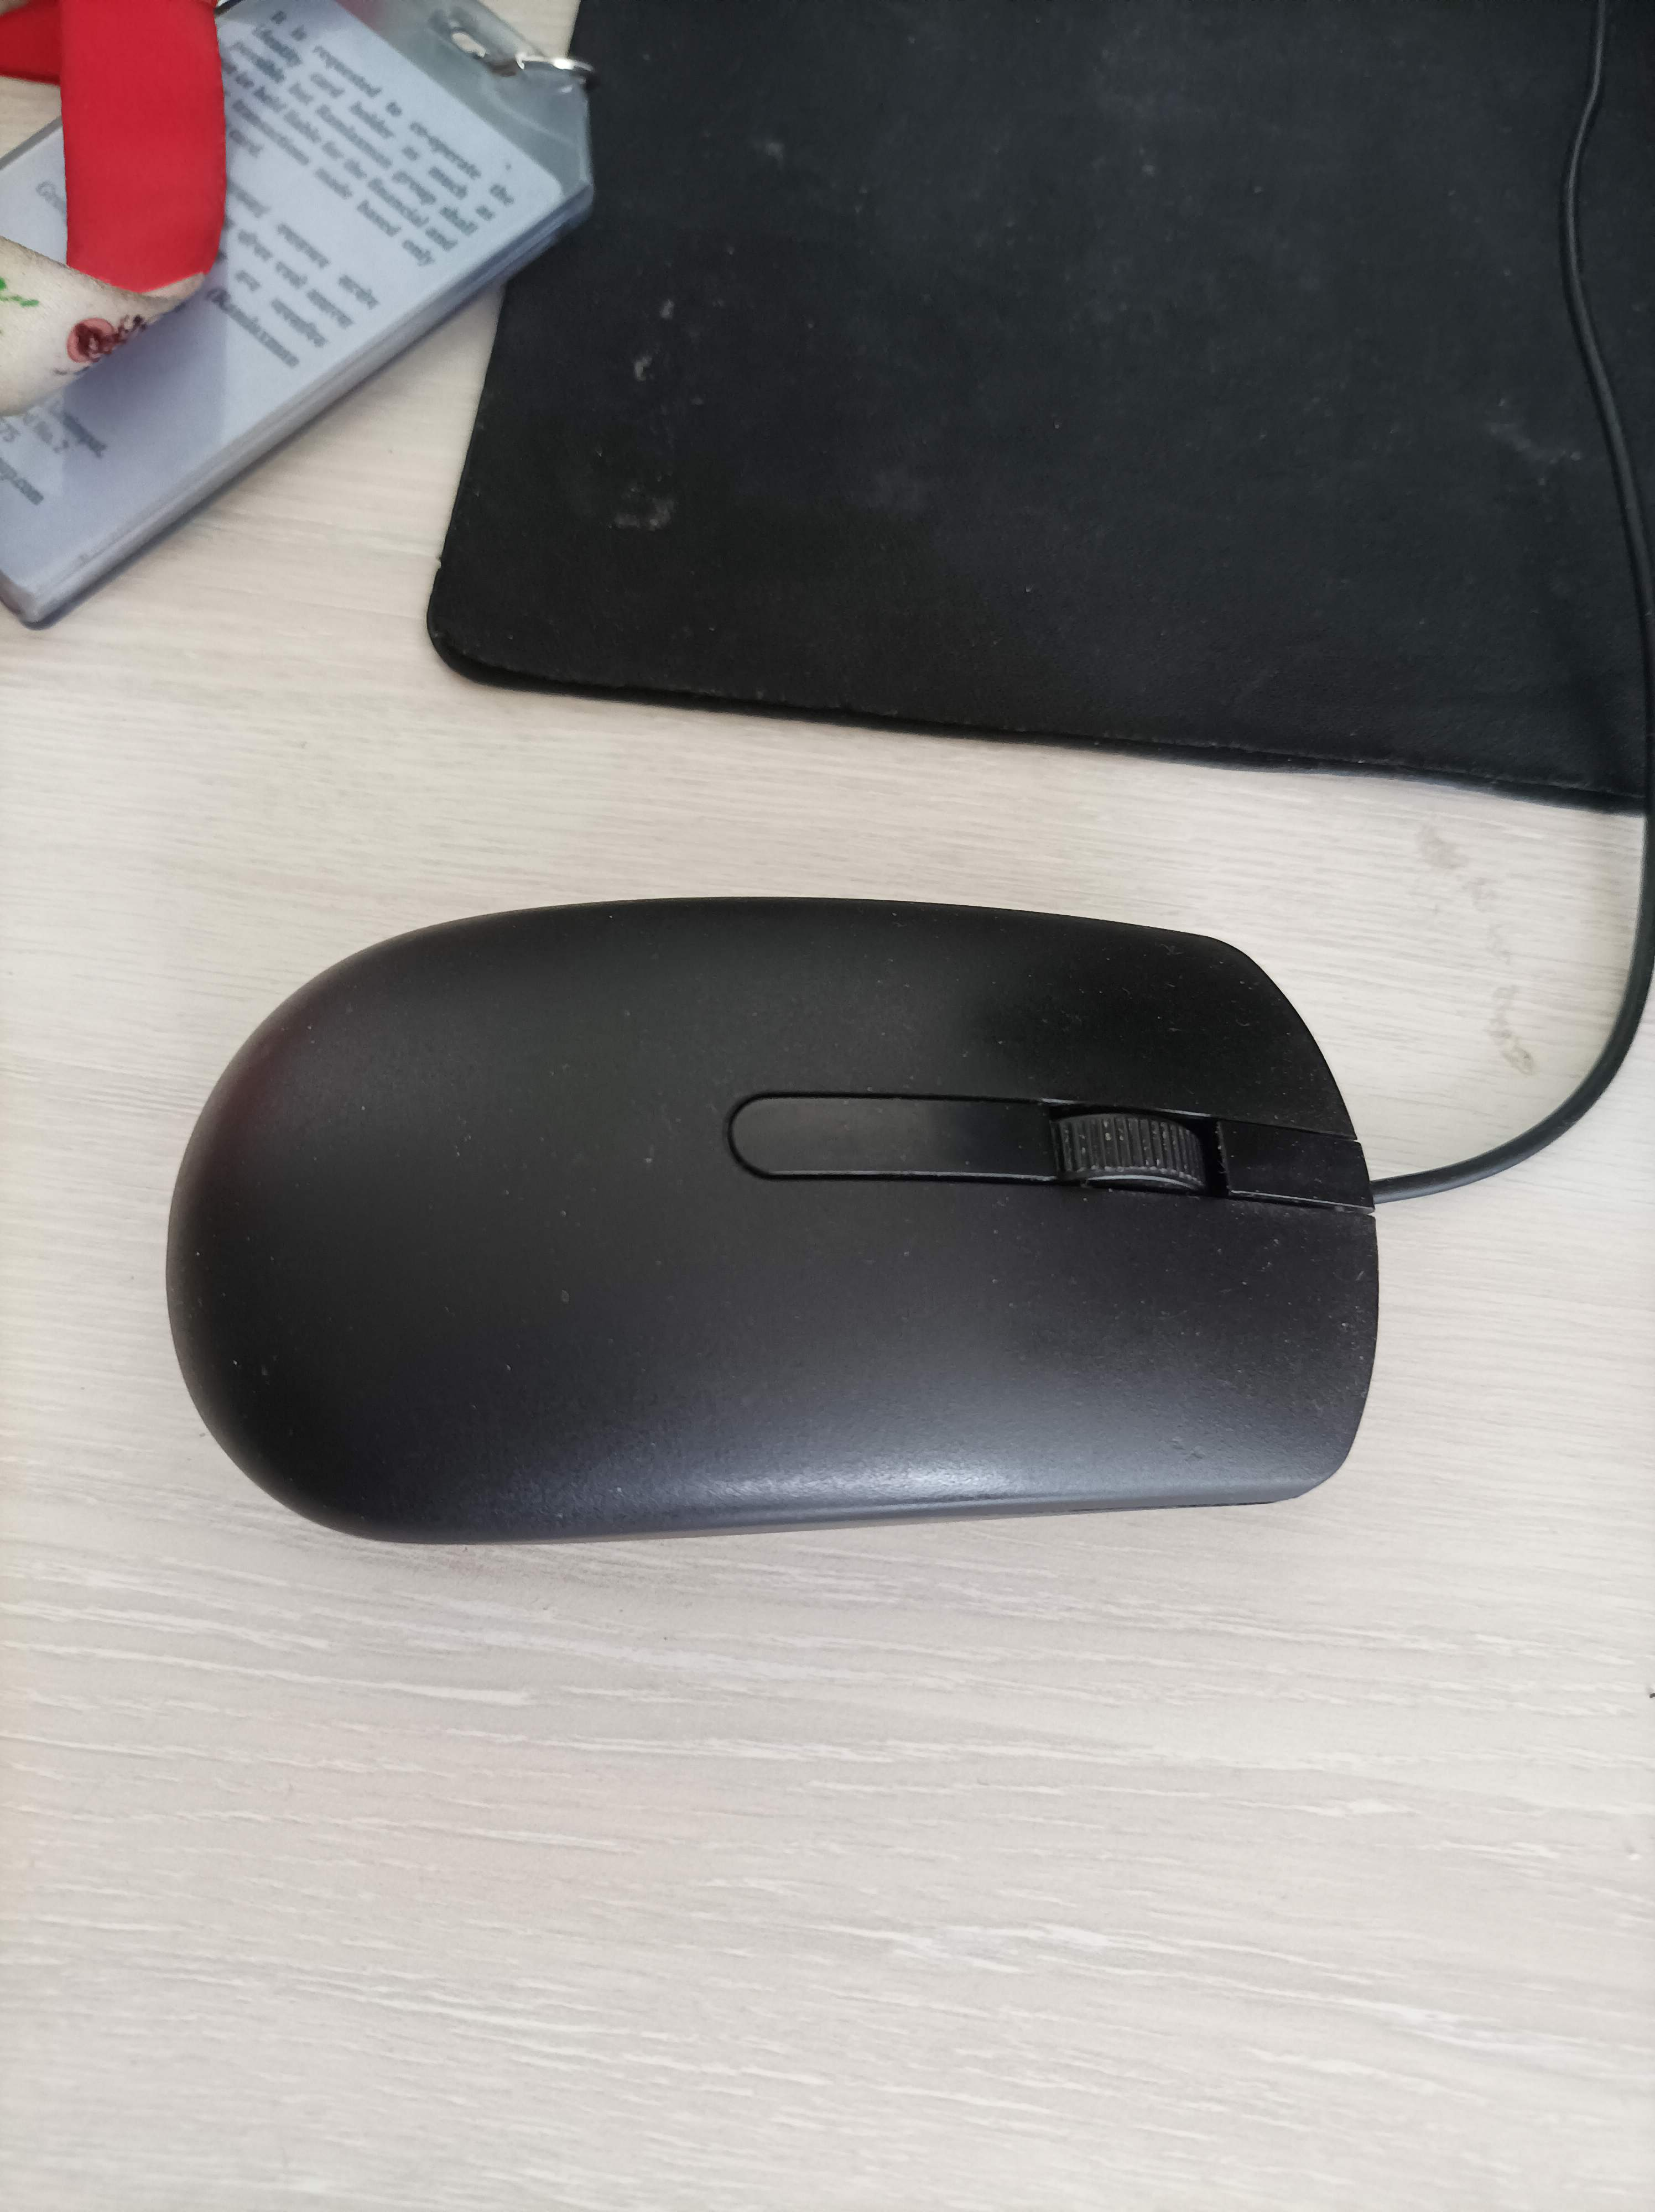mouse: (153, 883, 1401, 1567)
